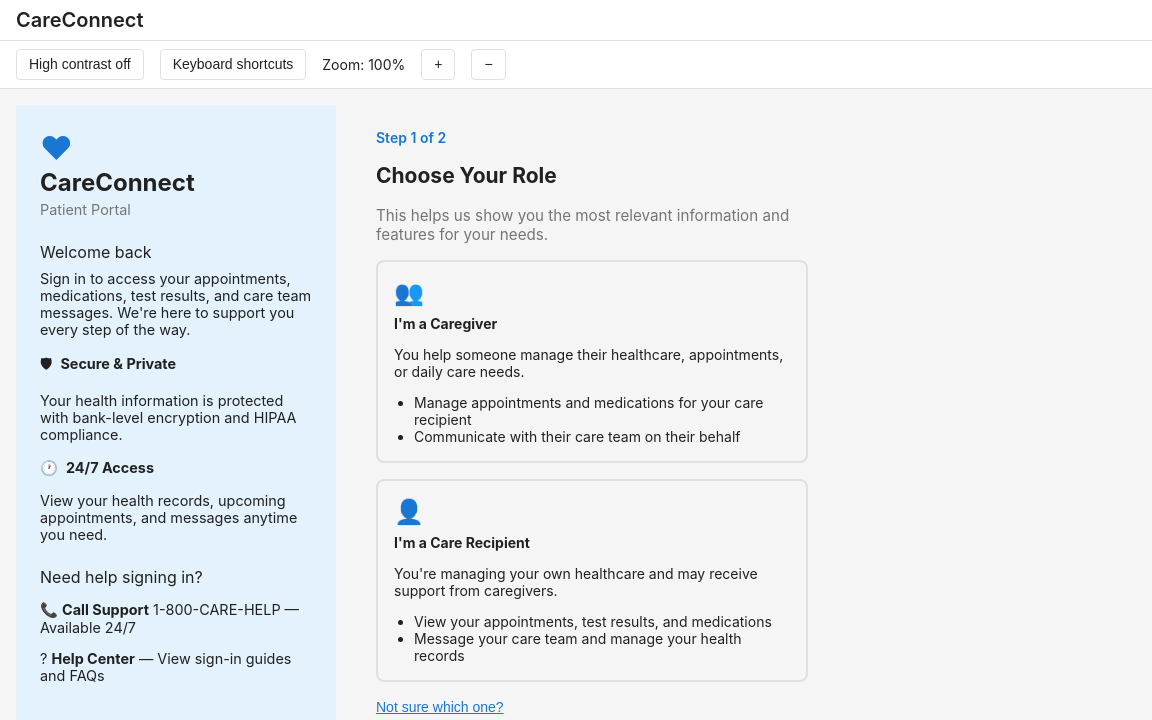
it: KeyboardShortcutsModal › opens from toolbar and shows title and shortcut list
Click the button with aria-label "open keyboard shortcuts" at (233, 64), box [160,49,306,80]
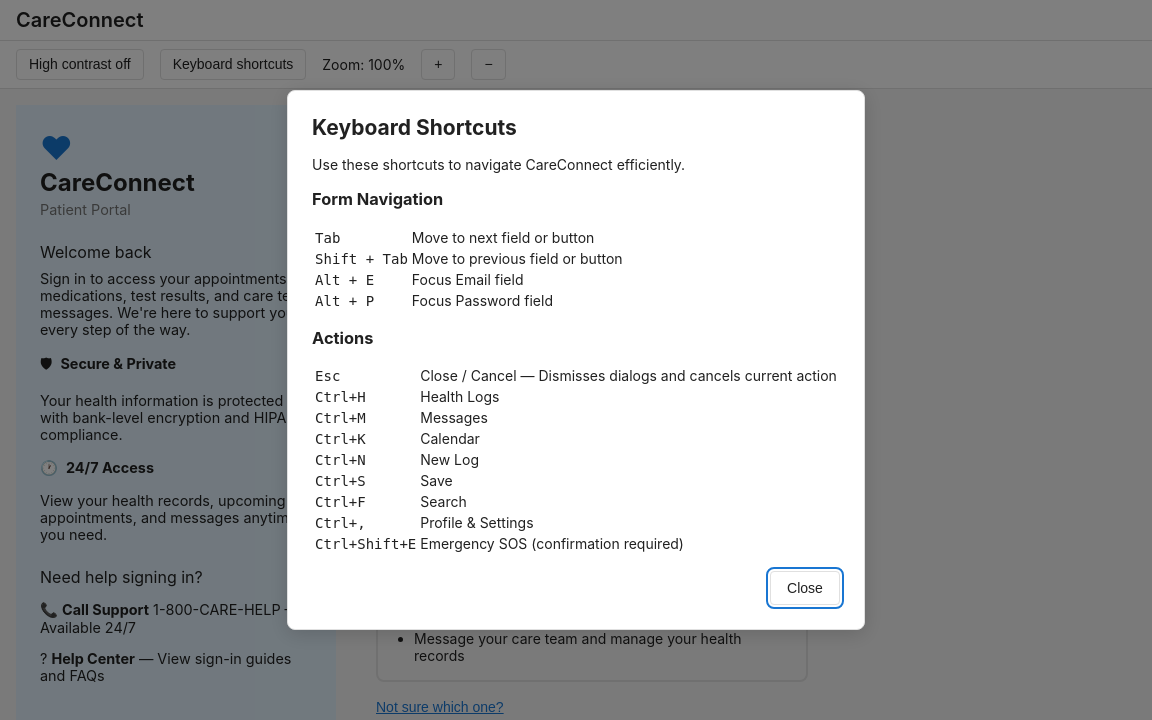
Result: the dialog "Keyboard Shortcuts" is shown
Result: the dialog "Keyboard Shortcuts" shows "Ctrl+H" at [315,389,366,405]
Result: the button "Close" is shown at [770,571,840,605]
